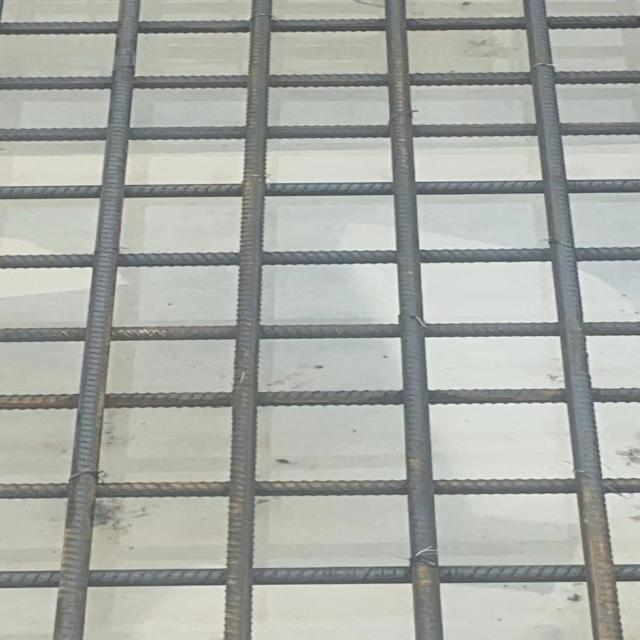ribbed bar: (523, 0, 625, 639), (52, 0, 141, 639), (383, 0, 444, 639), (222, 0, 272, 639), (0, 562, 639, 587), (0, 387, 639, 410), (0, 178, 639, 200), (0, 246, 639, 268), (0, 320, 639, 342), (0, 476, 639, 498), (0, 69, 639, 90), (0, 14, 639, 34), (0, 122, 639, 142)
